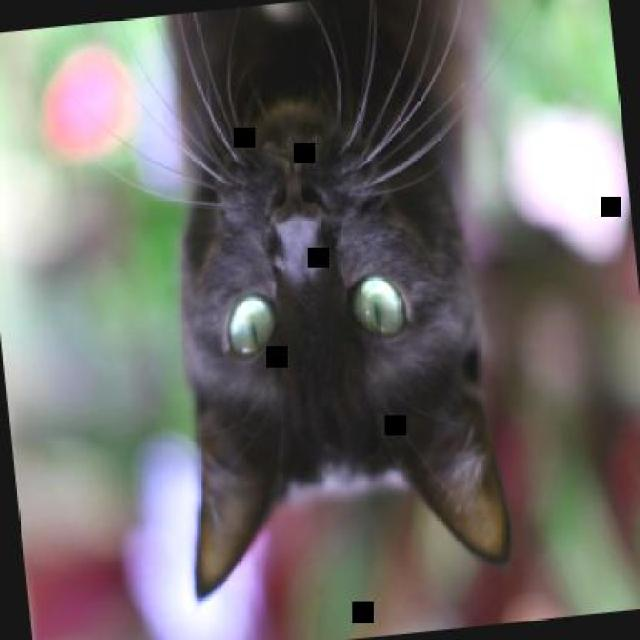cat: (135, 0, 548, 600)
